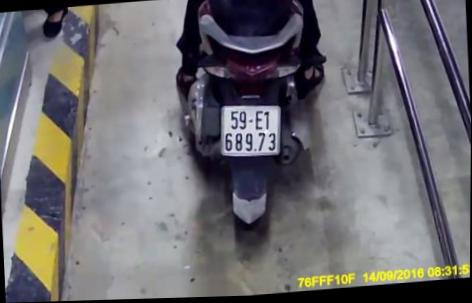LP: (218, 101, 283, 161)
